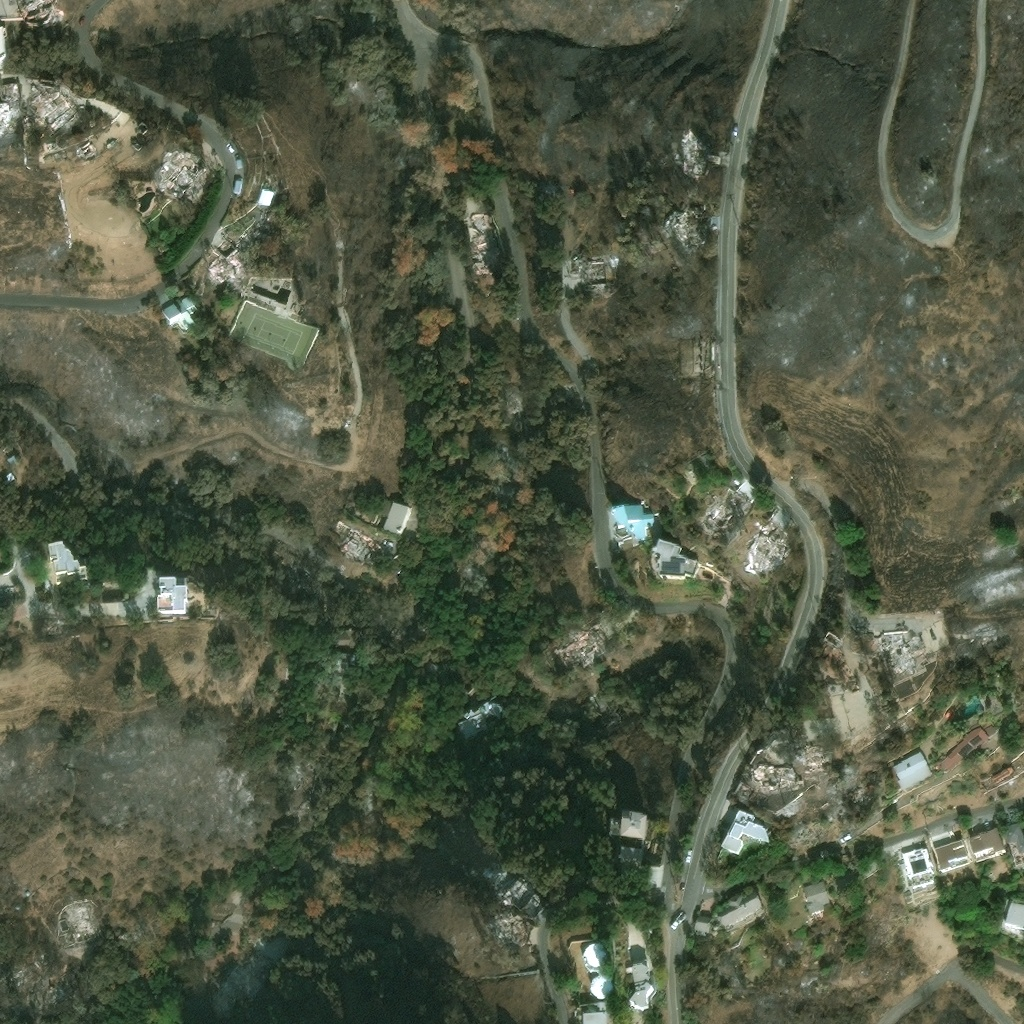0 no-damage: (720, 809, 776, 854), (204, 912, 243, 971), (939, 725, 988, 769), (456, 695, 502, 740), (46, 535, 87, 585), (715, 888, 763, 930), (362, 492, 409, 534), (609, 502, 654, 544), (617, 809, 647, 868), (651, 538, 698, 575), (891, 750, 931, 789), (902, 847, 933, 888), (934, 839, 969, 872), (155, 576, 186, 613), (623, 961, 648, 1006), (966, 826, 1003, 854), (162, 293, 195, 321), (802, 880, 828, 912), (999, 821, 1023, 855), (580, 941, 604, 968), (1003, 900, 1023, 931), (590, 975, 615, 998), (691, 915, 711, 935), (579, 1011, 607, 1023), (258, 188, 273, 205), (5, 453, 16, 463), (4, 470, 14, 481)
3 destroyed: (214, 947, 282, 1008), (53, 901, 102, 950), (27, 87, 78, 134), (554, 618, 608, 662), (466, 212, 502, 267), (741, 521, 786, 565), (877, 630, 923, 673), (200, 240, 242, 284), (156, 148, 196, 191), (675, 206, 718, 240), (342, 526, 380, 560), (20, 0, 59, 30), (499, 873, 533, 906), (679, 136, 706, 174), (703, 499, 734, 532), (757, 764, 797, 784), (493, 912, 518, 936), (588, 256, 605, 283), (726, 490, 747, 511), (0, 99, 10, 126), (78, 139, 95, 154), (1, 80, 17, 95), (896, 718, 910, 732), (135, 121, 148, 134), (607, 253, 616, 265), (11, 99, 17, 109)
4 un-classified: (0, 24, 5, 67)
